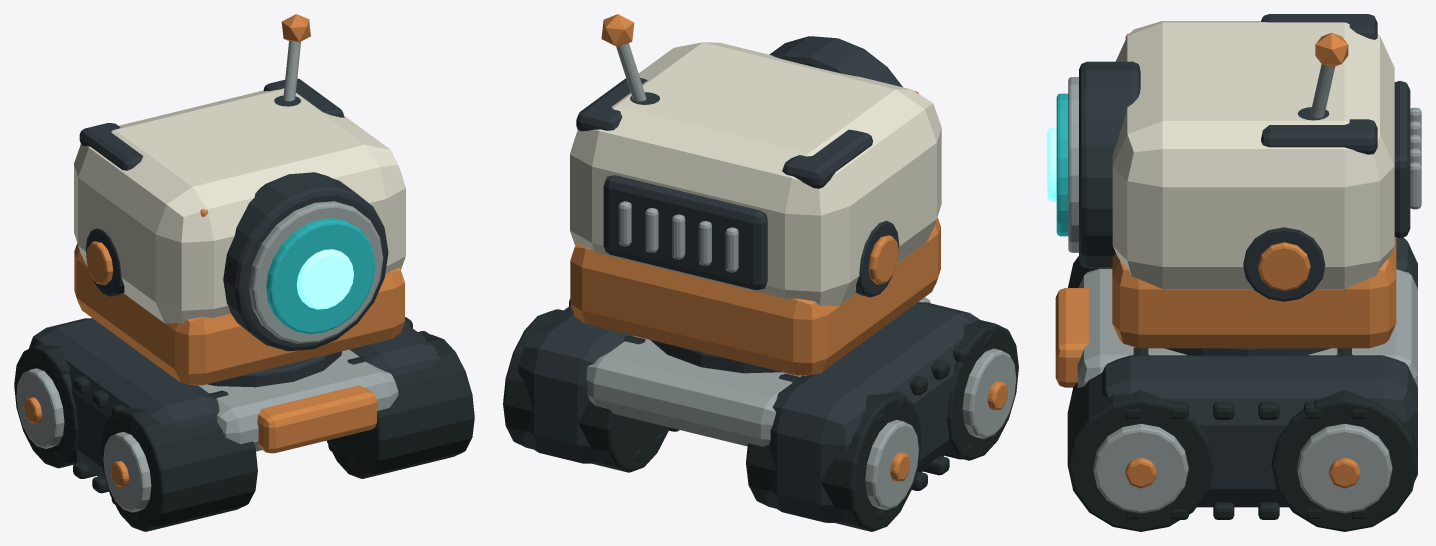
File: dot-v1.glb
3 views of the same model, side by side, from view 1: azimuth 30°, elevation 25°; view 2: azimuth 150°, elevation 25°; view 3: azimuth 270°, elevation 25° (orthographic). The views are drawn at different scales.
Parts seen in each view (by area): view 1: Upper porcelain shell, Capsule lower deck, Left tread wheel, Left drive casing, Right tread wheel, Charcoal optic housing, Teal lens glass, Lower skid plate, Shin guard, Machined brushed bezel, Left tread wheel.001, Single lit pupil (+10 smaller); view 2: Upper porcelain shell, Capsule lower deck, Left drive casing, Lower skid plate, Rear access plate, Right drive casing, Left tread wheel.001, Right tread wheel.001, Left tread wheel, Left outer hub.001, Left outer hub, Charcoal optic housing (+12 smaller); view 3: Upper porcelain shell, Right drive casing, Capsule lower deck, Right tread wheel, Right tread wheel.001, Charcoal optic housing, Lower skid plate, Right outer hub, Right outer hub.001, Shin guard, R service handle, R mounting pivot (+13 smaller).
Part boxes in pixels (x1,y1,x2,y2): Upper porcelain shell: [74, 88, 405, 323]; Capsule lower deck: [74, 243, 404, 385]; Left tread wheel: [101, 390, 257, 531]; Left drive casing: [29, 318, 219, 478]; Right tread wheel: [327, 334, 474, 478]; Charcoal optic housing: [223, 172, 388, 351]; Teal lens glass: [266, 218, 375, 333]; Lower skid plate: [198, 349, 398, 451]; Shin guard: [257, 385, 376, 453]; Machined brushed bezel: [249, 201, 383, 343]; Left tread wheel.001: [14, 344, 78, 468]; Single lit pupil: [296, 249, 353, 309]; Upper porcelain shell: [570, 42, 941, 305]; Capsule lower deck: [570, 217, 940, 375]; Left drive casing: [765, 302, 979, 522]; Lower skid plate: [586, 297, 930, 446]; Rear access plate: [603, 175, 767, 289]; Right drive casing: [518, 305, 631, 463]; Left tread wheel.001: [746, 373, 921, 531]; Right tread wheel.001: [503, 310, 669, 472]; Left tread wheel: [947, 319, 1018, 460]; Left outer hub.001: [865, 419, 918, 509]; Left outer hub: [962, 348, 1016, 438]; Charcoal optic housing: [769, 36, 902, 87]; Upper porcelain shell: [1112, 21, 1394, 288]; Right drive casing: [1102, 355, 1417, 507]; Capsule lower deck: [1112, 237, 1396, 348]; Right tread wheel: [1067, 347, 1214, 531]; Right tread wheel.001: [1271, 348, 1417, 531]; Charcoal optic housing: [1079, 61, 1140, 267]; Lower skid plate: [1077, 268, 1417, 387]; Right outer hub: [1093, 424, 1188, 513]; Right outer hub.001: [1297, 423, 1392, 513]; Shin guard: [1055, 288, 1089, 387]; R service handle: [1261, 119, 1377, 154]; R mounting pivot: [1243, 227, 1325, 301].
Size of the model in its own units: 0.791 by 0.869 by 0.6375.
